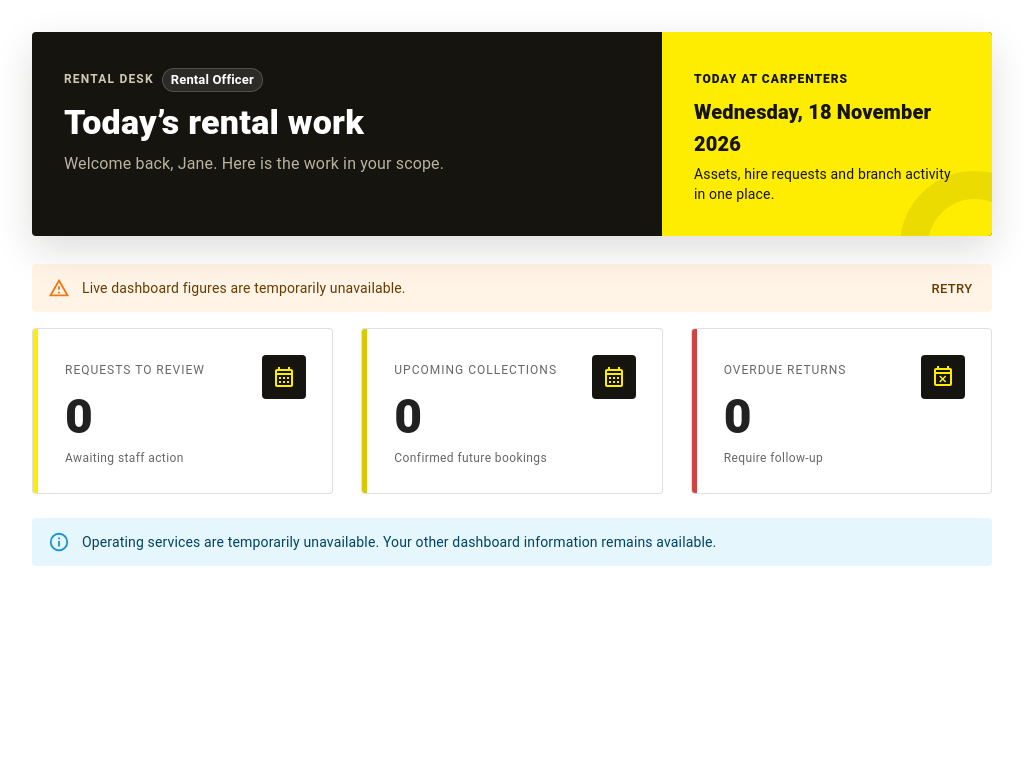
Test: Dashboard live summaries › retries a failed summary and independently recovers operating services on focus
Expected: the text "Live dashboard figures are temporarily unavailable." is shown, [82,280,406,296]
Expected: the text "Operating services are temporarily unavailable" is shown, [82,534,716,550]
Click the button "Retry".
click(952, 289)  # box [920,274,984,305]
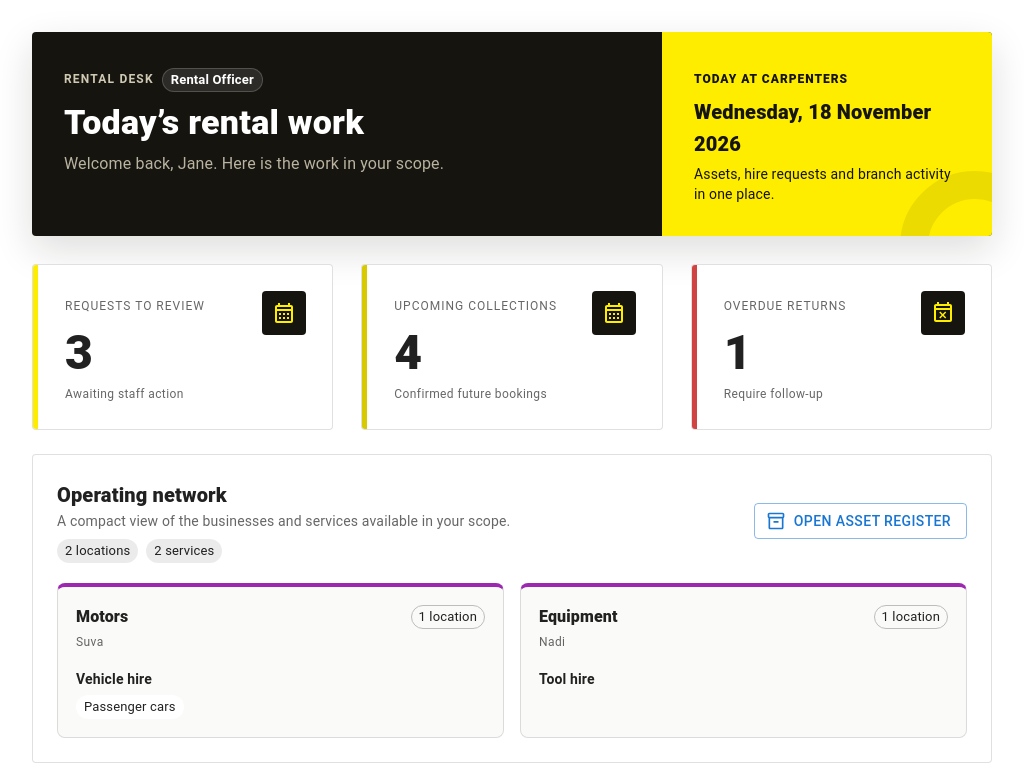
Expected: the text "Live dashboard figures are temporarily unavailable." is gone
Expected: the text "Tool hire" is shown, [539,671,595,687]
Expected: the text "2 services" is shown, [154,543,214,558]
